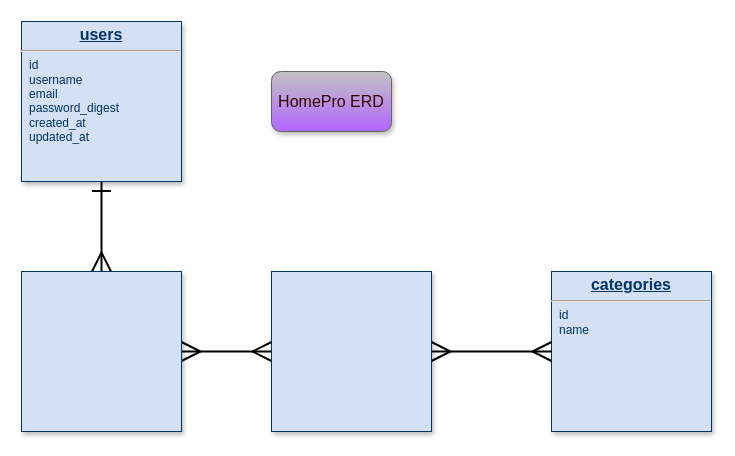
Some shapes in this 735 by 456 pixel diagram are drawn without their labels. The centre of each missing label's shape, as x and y in pixels:
"categories_projects project_id category_id created_at updated_at" belongs at [352,352].
"projects id name user_id created_at updated_at" belongs at [102,352].
